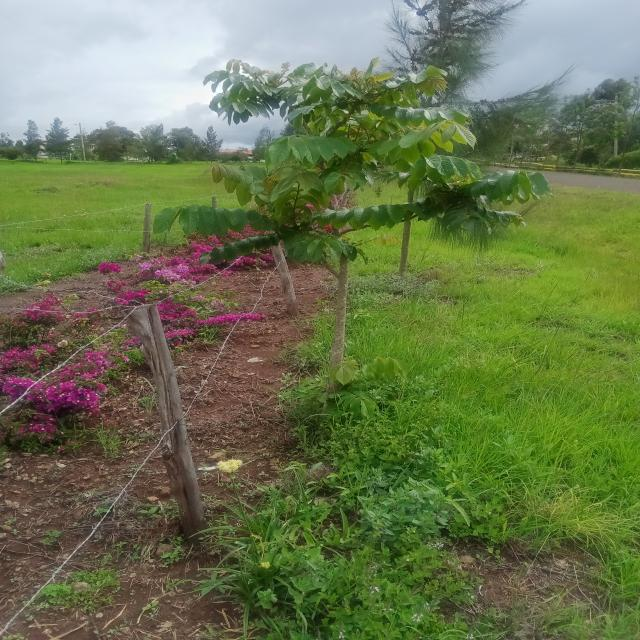Polyscias Kikuyensis: (152, 64, 549, 394)
